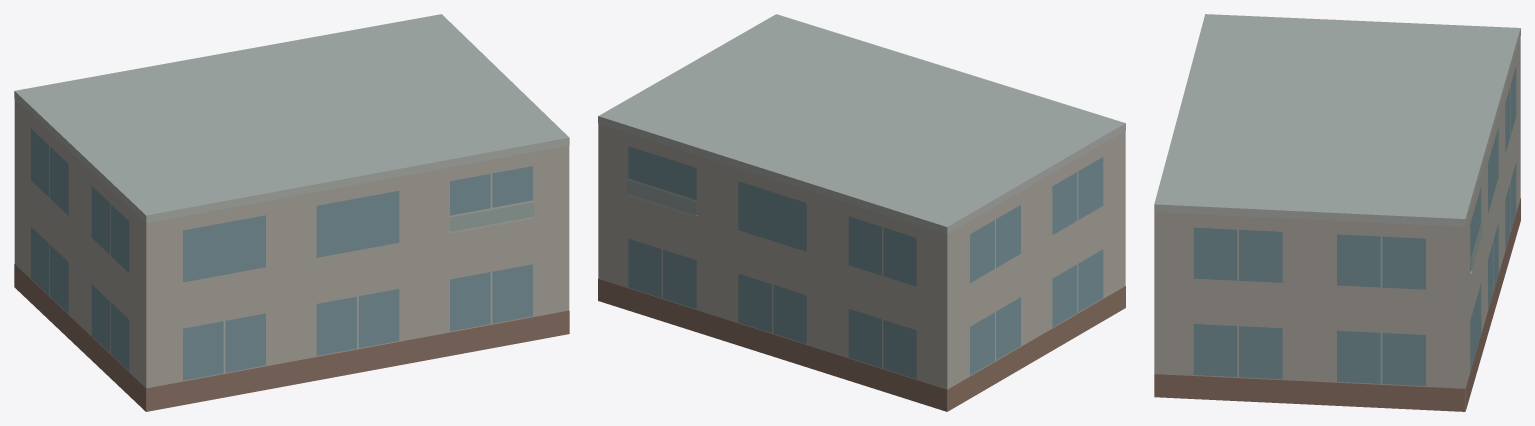
File: survey-upis-32933033.glb
3 renders of one model, left to right at view 1: azimuth 30°, elevation 25°; view 2: azimuth 150°, elevation 25°; view 3: azimuth 270°, elevation 25°, orthographic. The views are drawn at different scales.
Parts seen in each view (by area): view 1: survey-upis-32933033.tmp; view 2: survey-upis-32933033.tmp; view 3: survey-upis-32933033.tmp.
Part boxes in pixels (bbox=[...]): survey-upis-32933033.tmp: bbox=[14, 14, 569, 411]; survey-upis-32933033.tmp: bbox=[598, 14, 1125, 411]; survey-upis-32933033.tmp: bbox=[1154, 14, 1520, 411].
Size of the model in its own units: 13.93 by 6.1 by 10.52.
